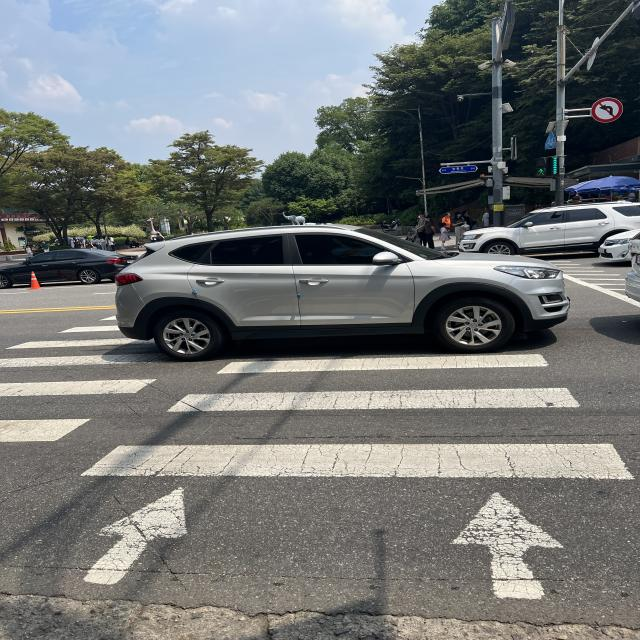green_light: (534, 156, 560, 180)
zebra: (0, 348, 640, 640)
